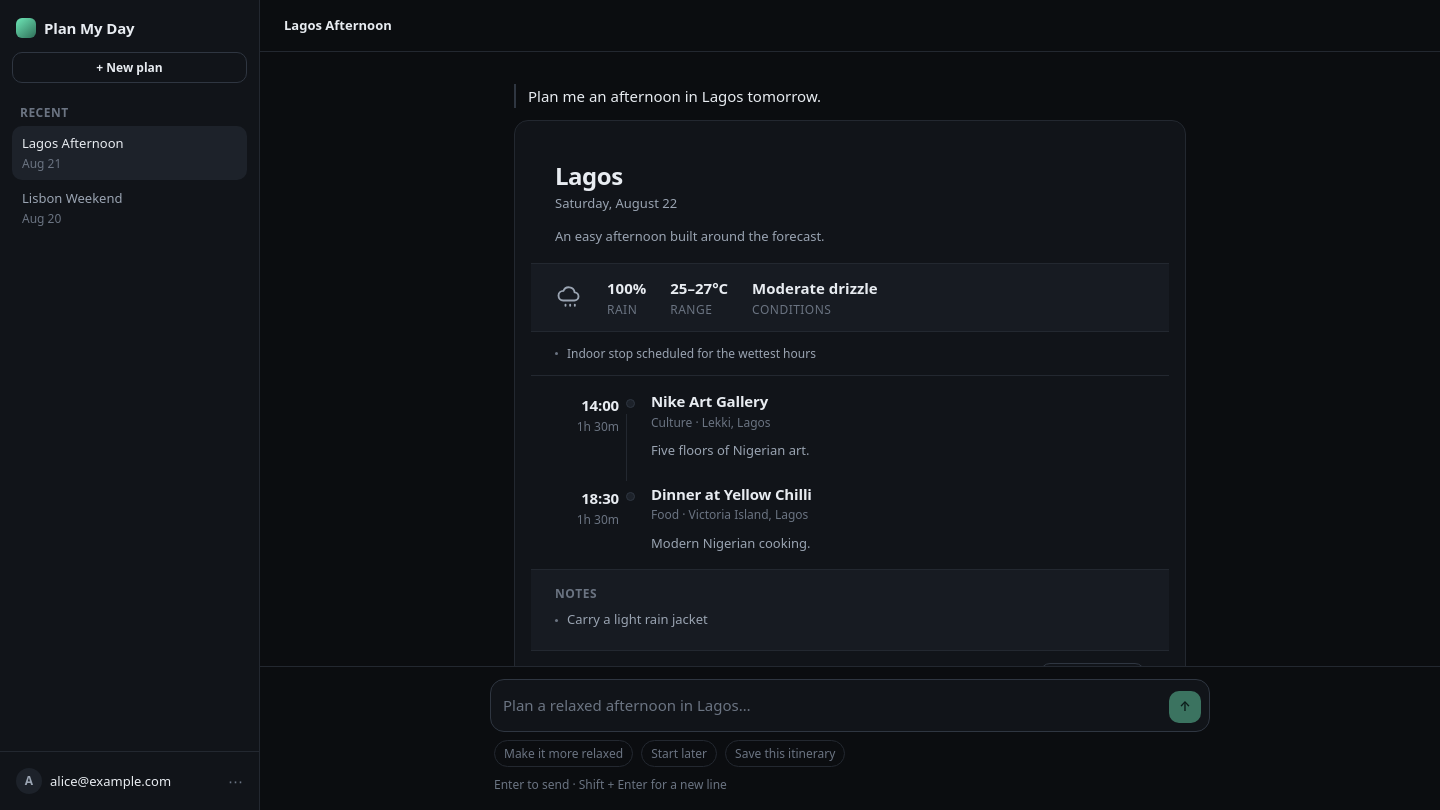
Test case: conversation replay › does not carry a model key into replay
Click the button "A alice@example.com ⋯": click(130, 781) 8,760 -> 251,802
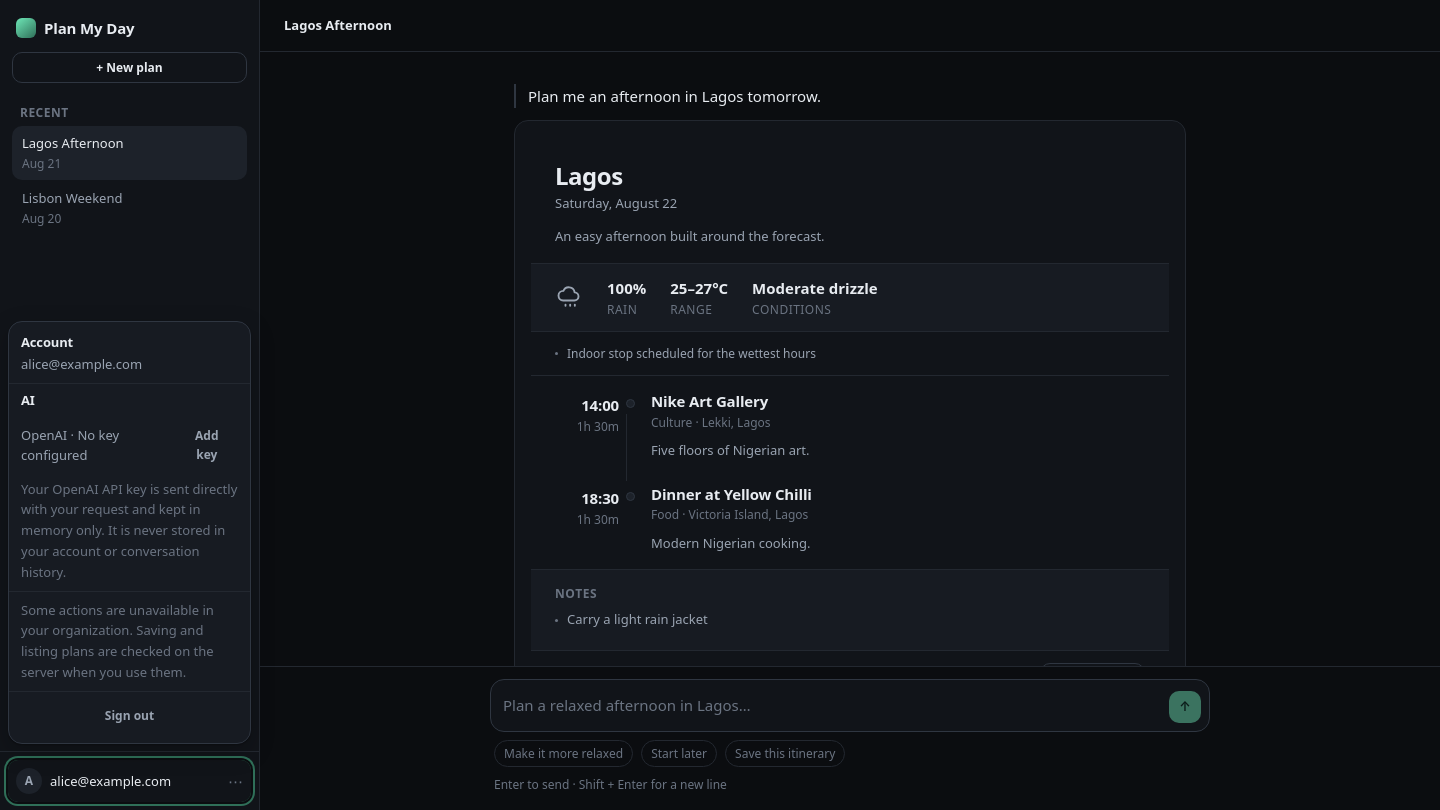
Click the button "Add key": click(207, 446) 176,420 -> 238,471
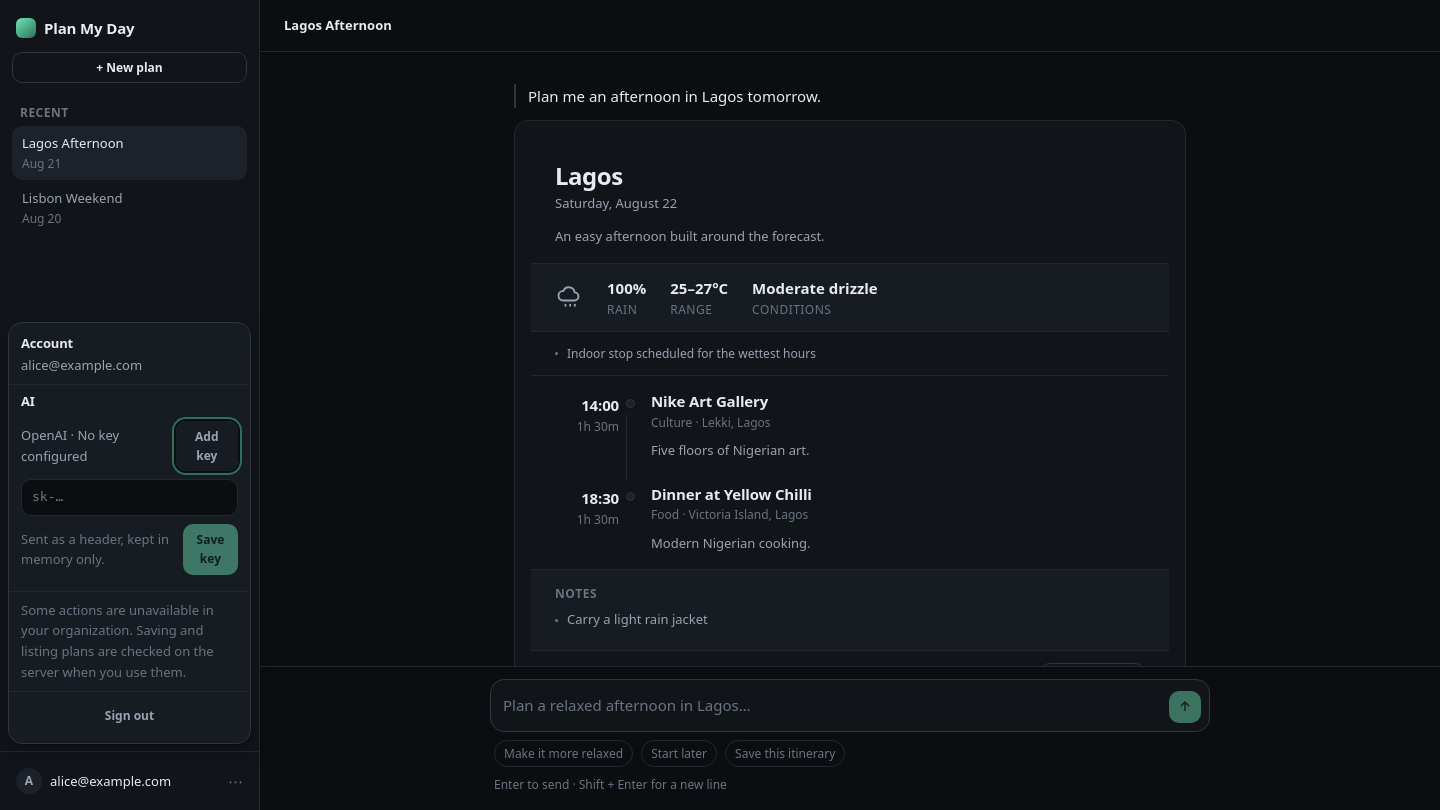
In the password field named "api key": (130, 498) 21,480 -> 238,516, type "sk-replay-probe"
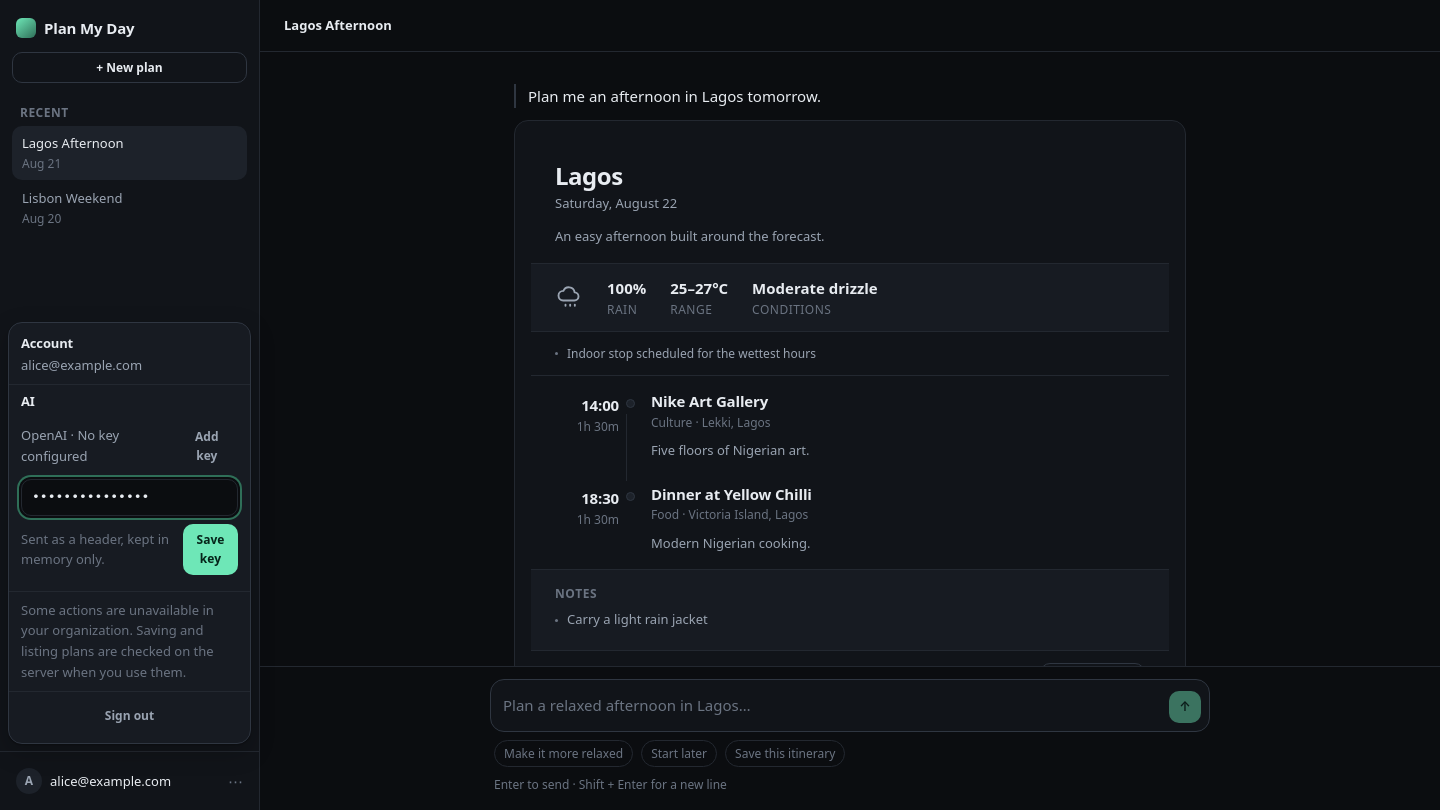
Click the button "Save key": click(210, 550) 183,524 -> 238,575
(page scrolled)
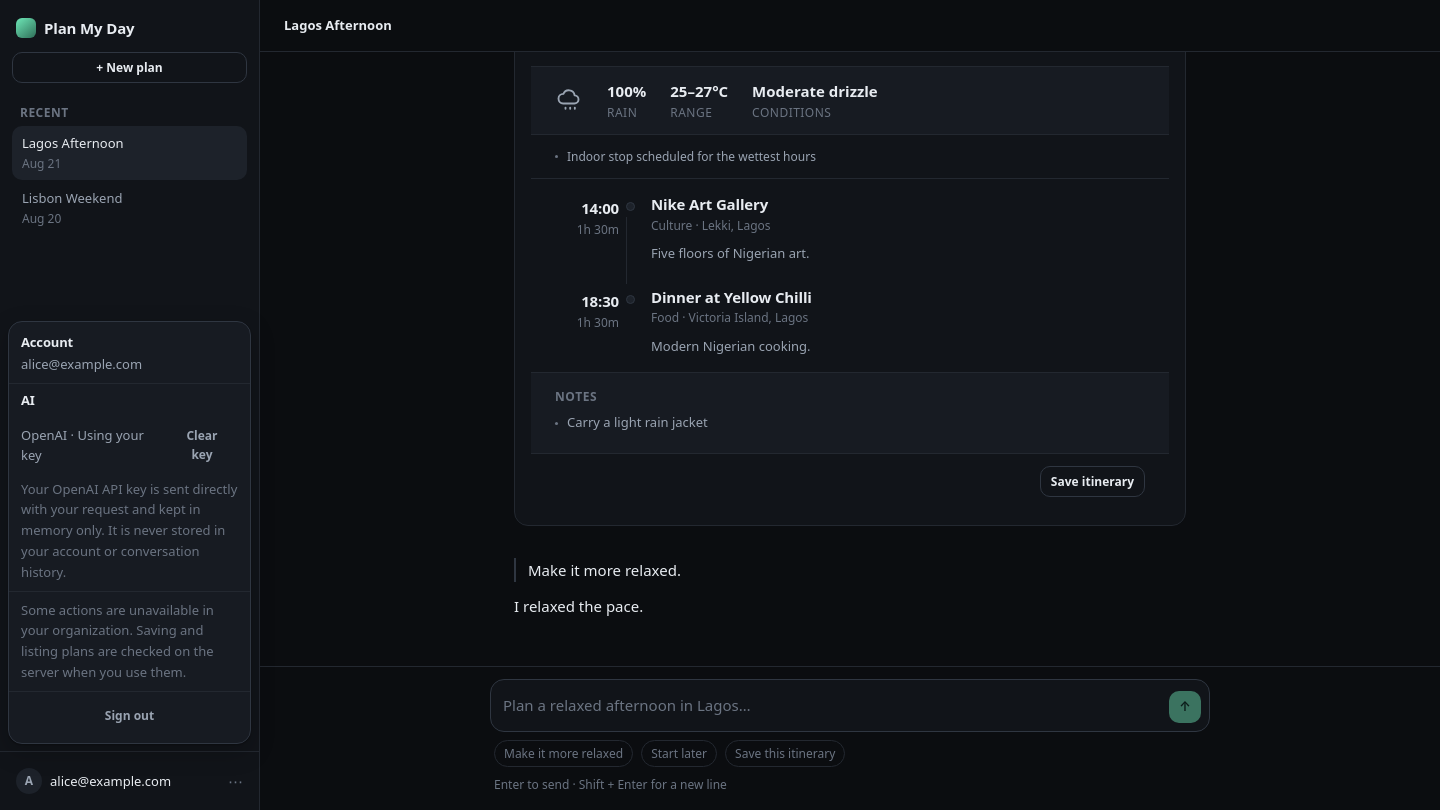
Expected: the text "I relaxed the pace." is shown, 514,596 -> 643,616
